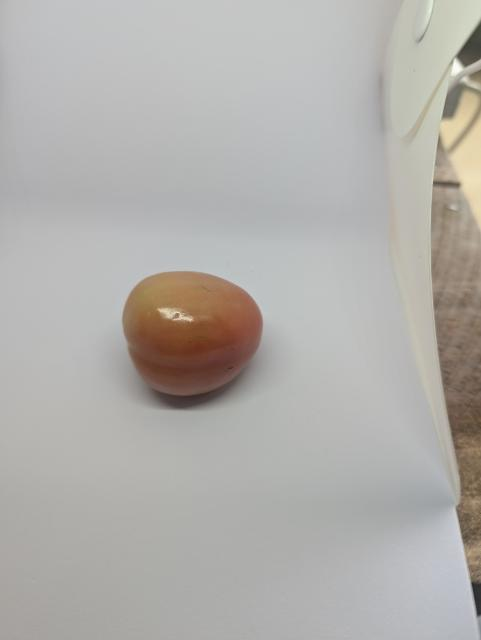turning: (119, 266, 270, 407)
